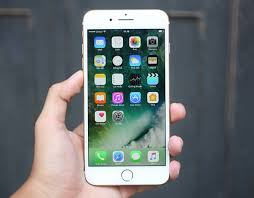iphone: (81, 8, 173, 187)
iphone7: (81, 8, 173, 187)
